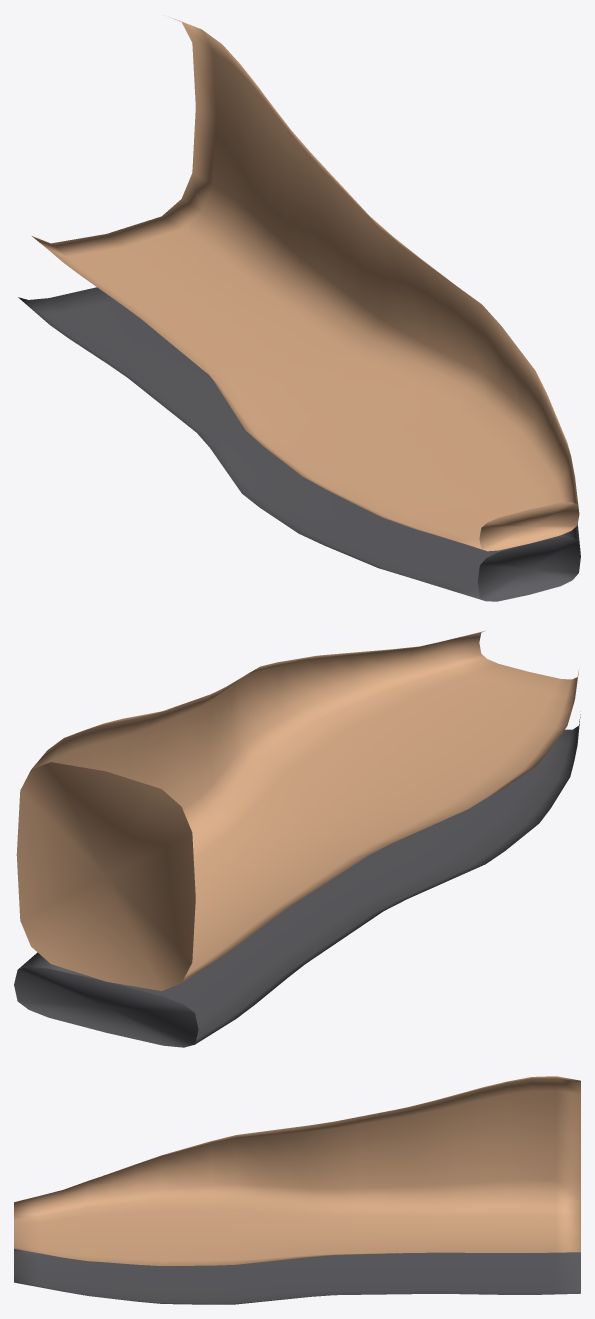
Rendered from placeholder_shoe.glb.
3 views of the same model, one above another, from view 1: azimuth 30°, elevation 25°; view 2: azimuth 150°, elevation 25°; view 3: azimuth 270°, elevation 25° (orthographic). The views are drawn at different scales.
Parts seen in each view (by area): view 1: placeholder_shoe; view 2: placeholder_shoe; view 3: placeholder_shoe.
Boxes of the visible parts, left/top/right/bottom form: placeholder_shoe: left=18, top=15, right=580, bottom=601; placeholder_shoe: left=14, top=630, right=580, bottom=1047; placeholder_shoe: left=14, top=1076, right=580, bottom=1304.
Size of the model in its own units: 0.0943 by 0.0942 by 0.27.
